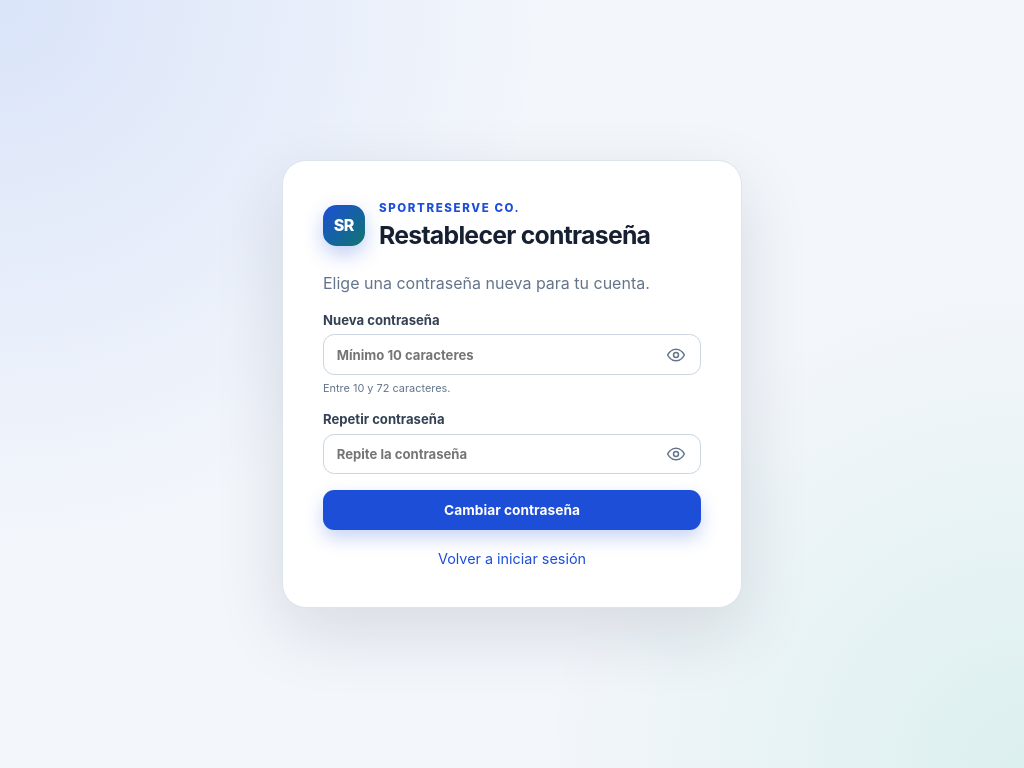
it: ResetPasswordPage › muestra errores de la API y habilita de nuevo el formulario
In the password field labelled "Nueva contraseña Entre 10 y 72 caracteres.": (512, 355) [323,334,701,375], type "password123"
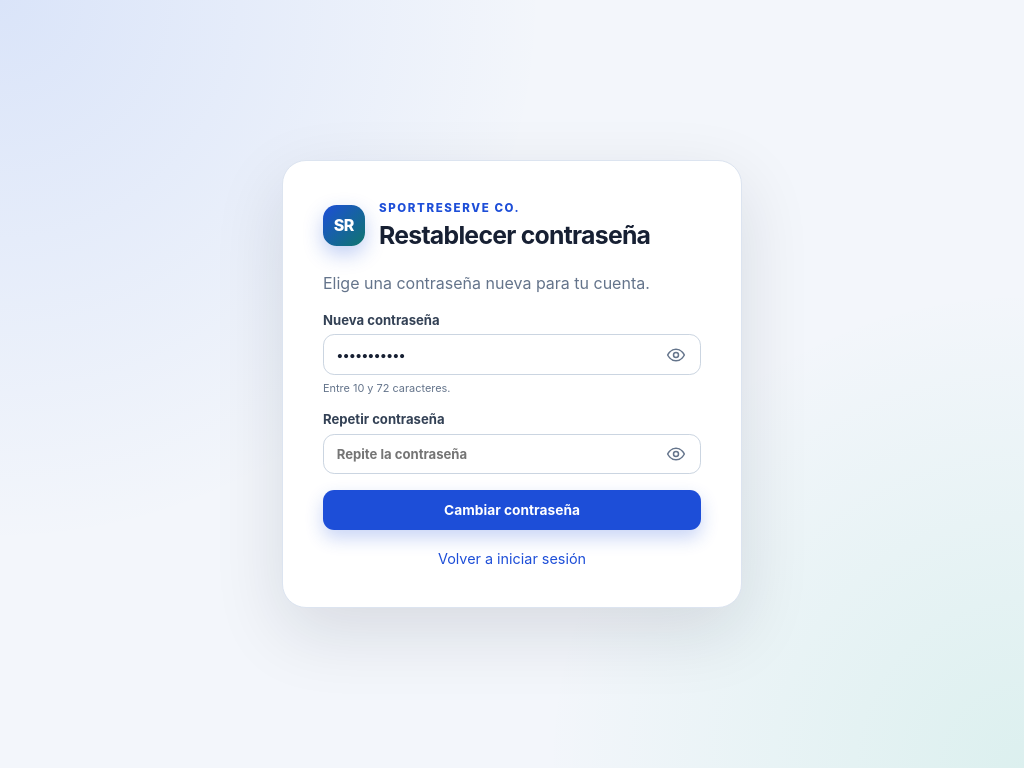
In the password field labelled "Repetir contraseña": (512, 454) [323,434,701,474], type "password123"
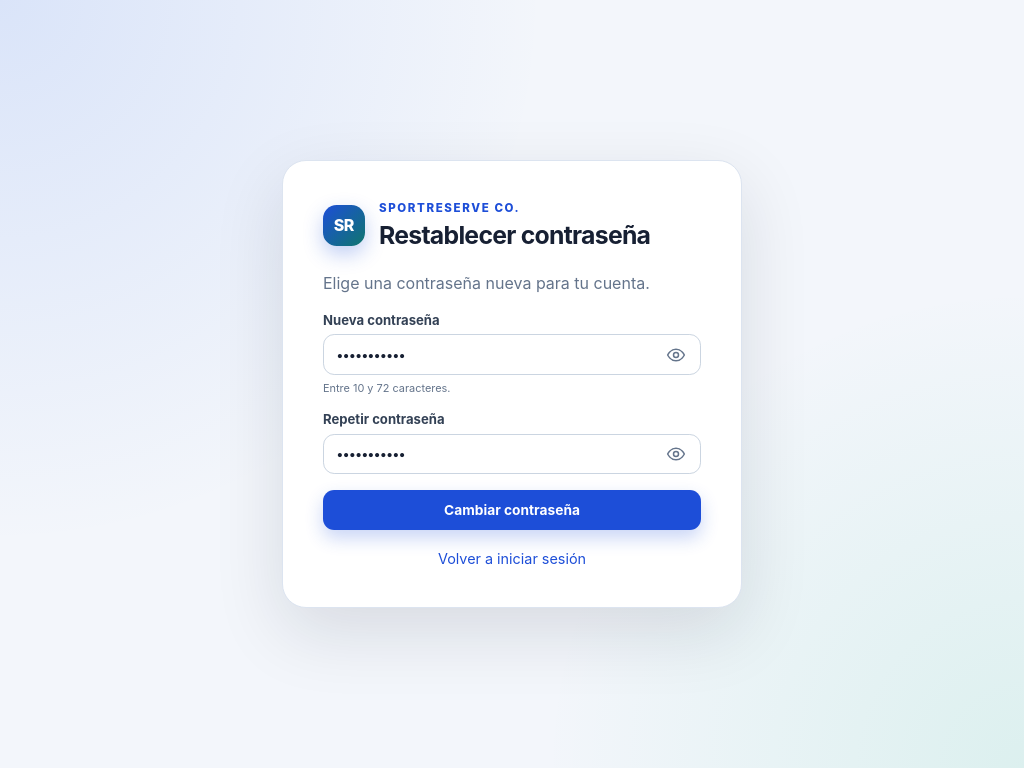
Click the button "Cambiar contraseña": (512, 510) [323,490,701,530]
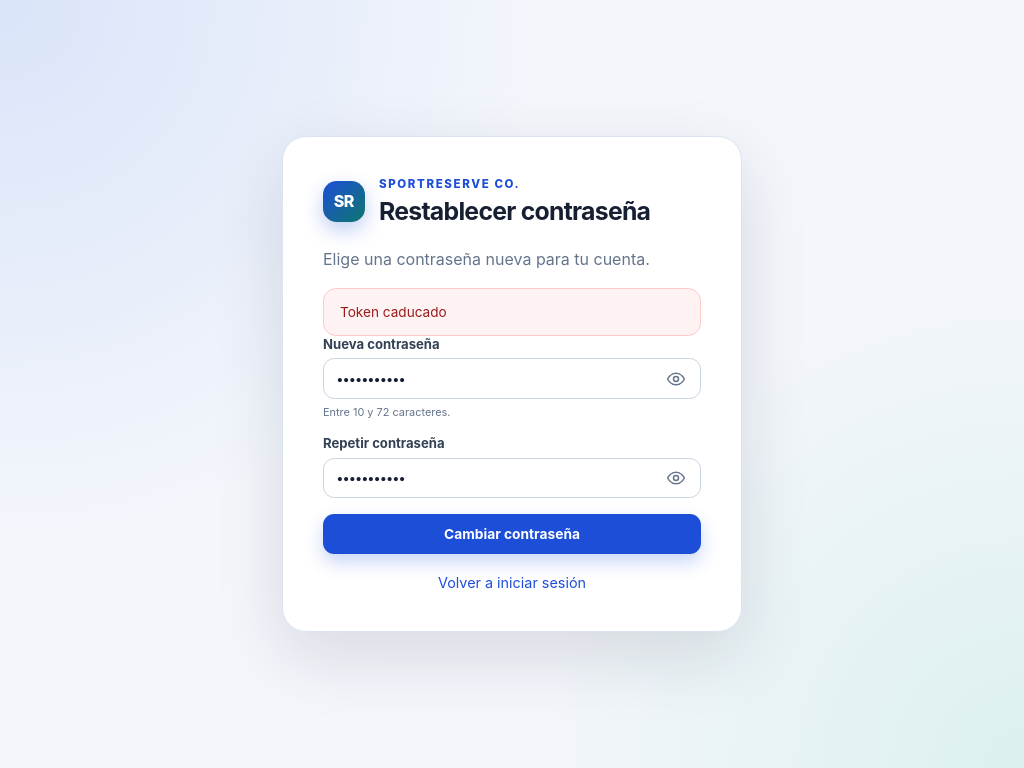
Expected: the button "Cambiar contraseña" is enabled, [323,514,701,554]
Expected: the message reads "Token caducado", [340,304,447,320]
